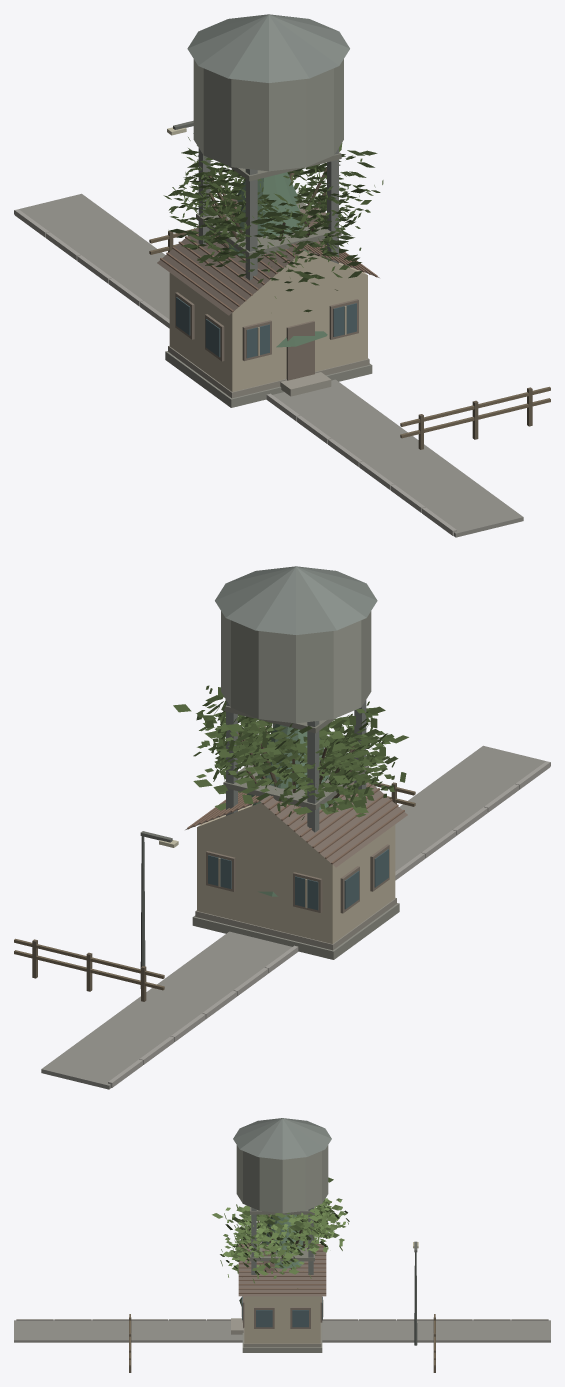
Rendered from roadside.glb.
The picture shows the model from 3 angles, top to bottom: view 1: azimuth 30°, elevation 25°; view 2: azimuth 150°, elevation 25°; view 3: azimuth 270°, elevation 25°; orthographic projection. The views are drawn at different scales.
Visible parts, largest first — view 1: building, tower, village, broadleaf, broadleaf_lod, pine; view 2: building, village, tower, broadleaf, broadleaf_lod, pine; view 3: village, tower, building, broadleaf, broadleaf_lod, pine.
Boxes of the visible parts, <box> form: building: <box>157,199,379,407</box>; tower: <box>187,14,349,280</box>; village: <box>14,120,550,537</box>; broadleaf: <box>163,133,383,312</box>; broadleaf_lod: <box>168,143,377,290</box>; pine: <box>224,172,327,347</box>; building: <box>185,754,407,959</box>; village: <box>14,745,550,1089</box>; tower: <box>215,566,377,832</box>; broadleaf: <box>193,685,394,820</box>; broadleaf_lod: <box>173,687,408,814</box>; pine: <box>247,724,339,896</box>; village: <box>14,1241,550,1372</box>; tower: <box>233,1118,331,1274</box>; building: <box>231,1244,326,1352</box>; broadleaf: <box>220,1198,349,1288</box>; broadleaf_lod: <box>212,1177,342,1283</box>; pine: <box>239,1214,303,1306</box>.
Bounding box in the file's own units: 9.38 × 12.8 × 28.2.
